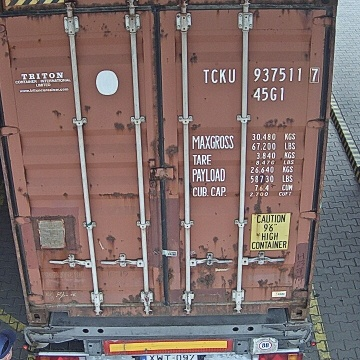serial_id: (203, 67, 320, 82)
